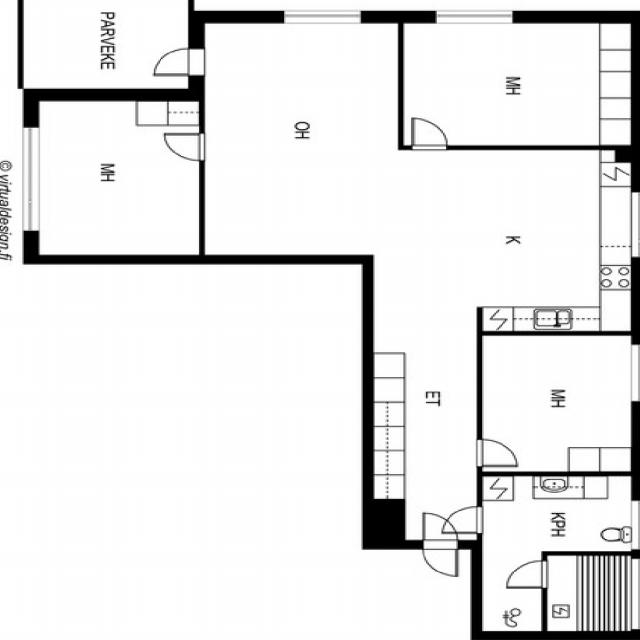door: (155, 49, 205, 76), (422, 540, 457, 578), (422, 513, 457, 550), (505, 561, 547, 588), (411, 118, 446, 150), (475, 439, 516, 466), (164, 134, 205, 161), (441, 507, 482, 533)
